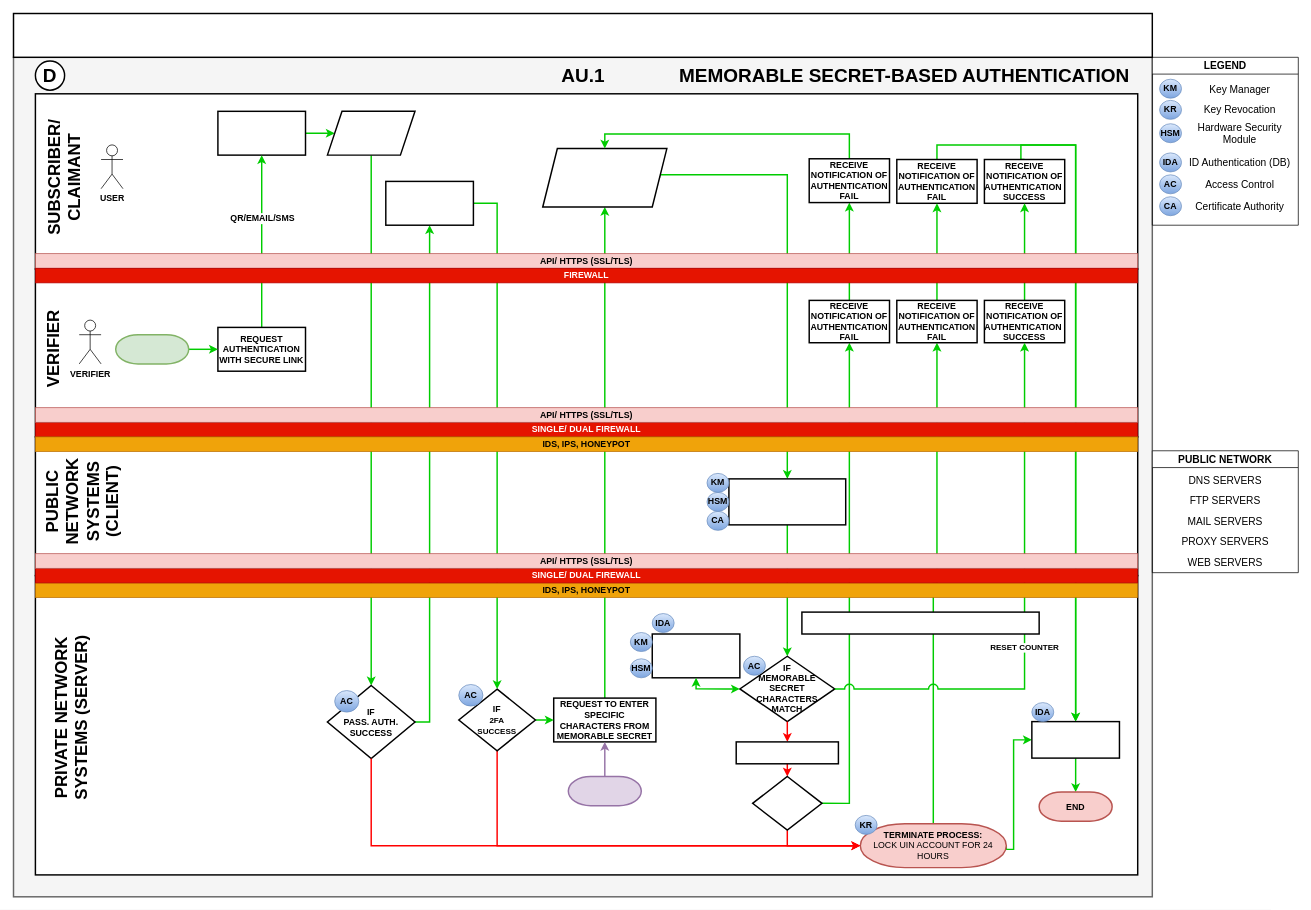
The diagram is 1311 pixels wide and 910 high, and some of its shapes have lost their labels. The shapes that lost their labels are listed below. From the top down, each one's centre as x and y in pixels, then its label:
pixel 582 35: Purpose: This SOP o utlines the authentication process using a memorable secret.
pixel 261 132: CLICKS SECURE LINK TO DID AUTHENTICATOR
pixel 370 132: LOGIN - PASS. AUTH.: AU.1.B
pixel 604 177: ENTERS REQUESTED CHARACTERS FROM THE MEMORABLE SECRET
pixel 429 203: 2FA USING (ONE) OTP: AU.2.C PIN: AU.1.F
pixel 152 349: START (ONLINE)
pixel 787 501: MASK & ENCRYPT ENTERED MEMORABLE SECRET FOR AUTHENTICATION
pixel 920 622: NOTIFICATION GENERATOR
pixel 695 655: DID DATABASE: UIN ACCOUNT
pixel 787 752: EXCEPTION AND ERROR HANDLING (COUNTER)
pixel 1075 739: LOGS THE PROCESS AND STATUS
pixel 604 790: CONTINUE: AUTH.
pixel 787 803: IF RETRY COUNT < = 3
